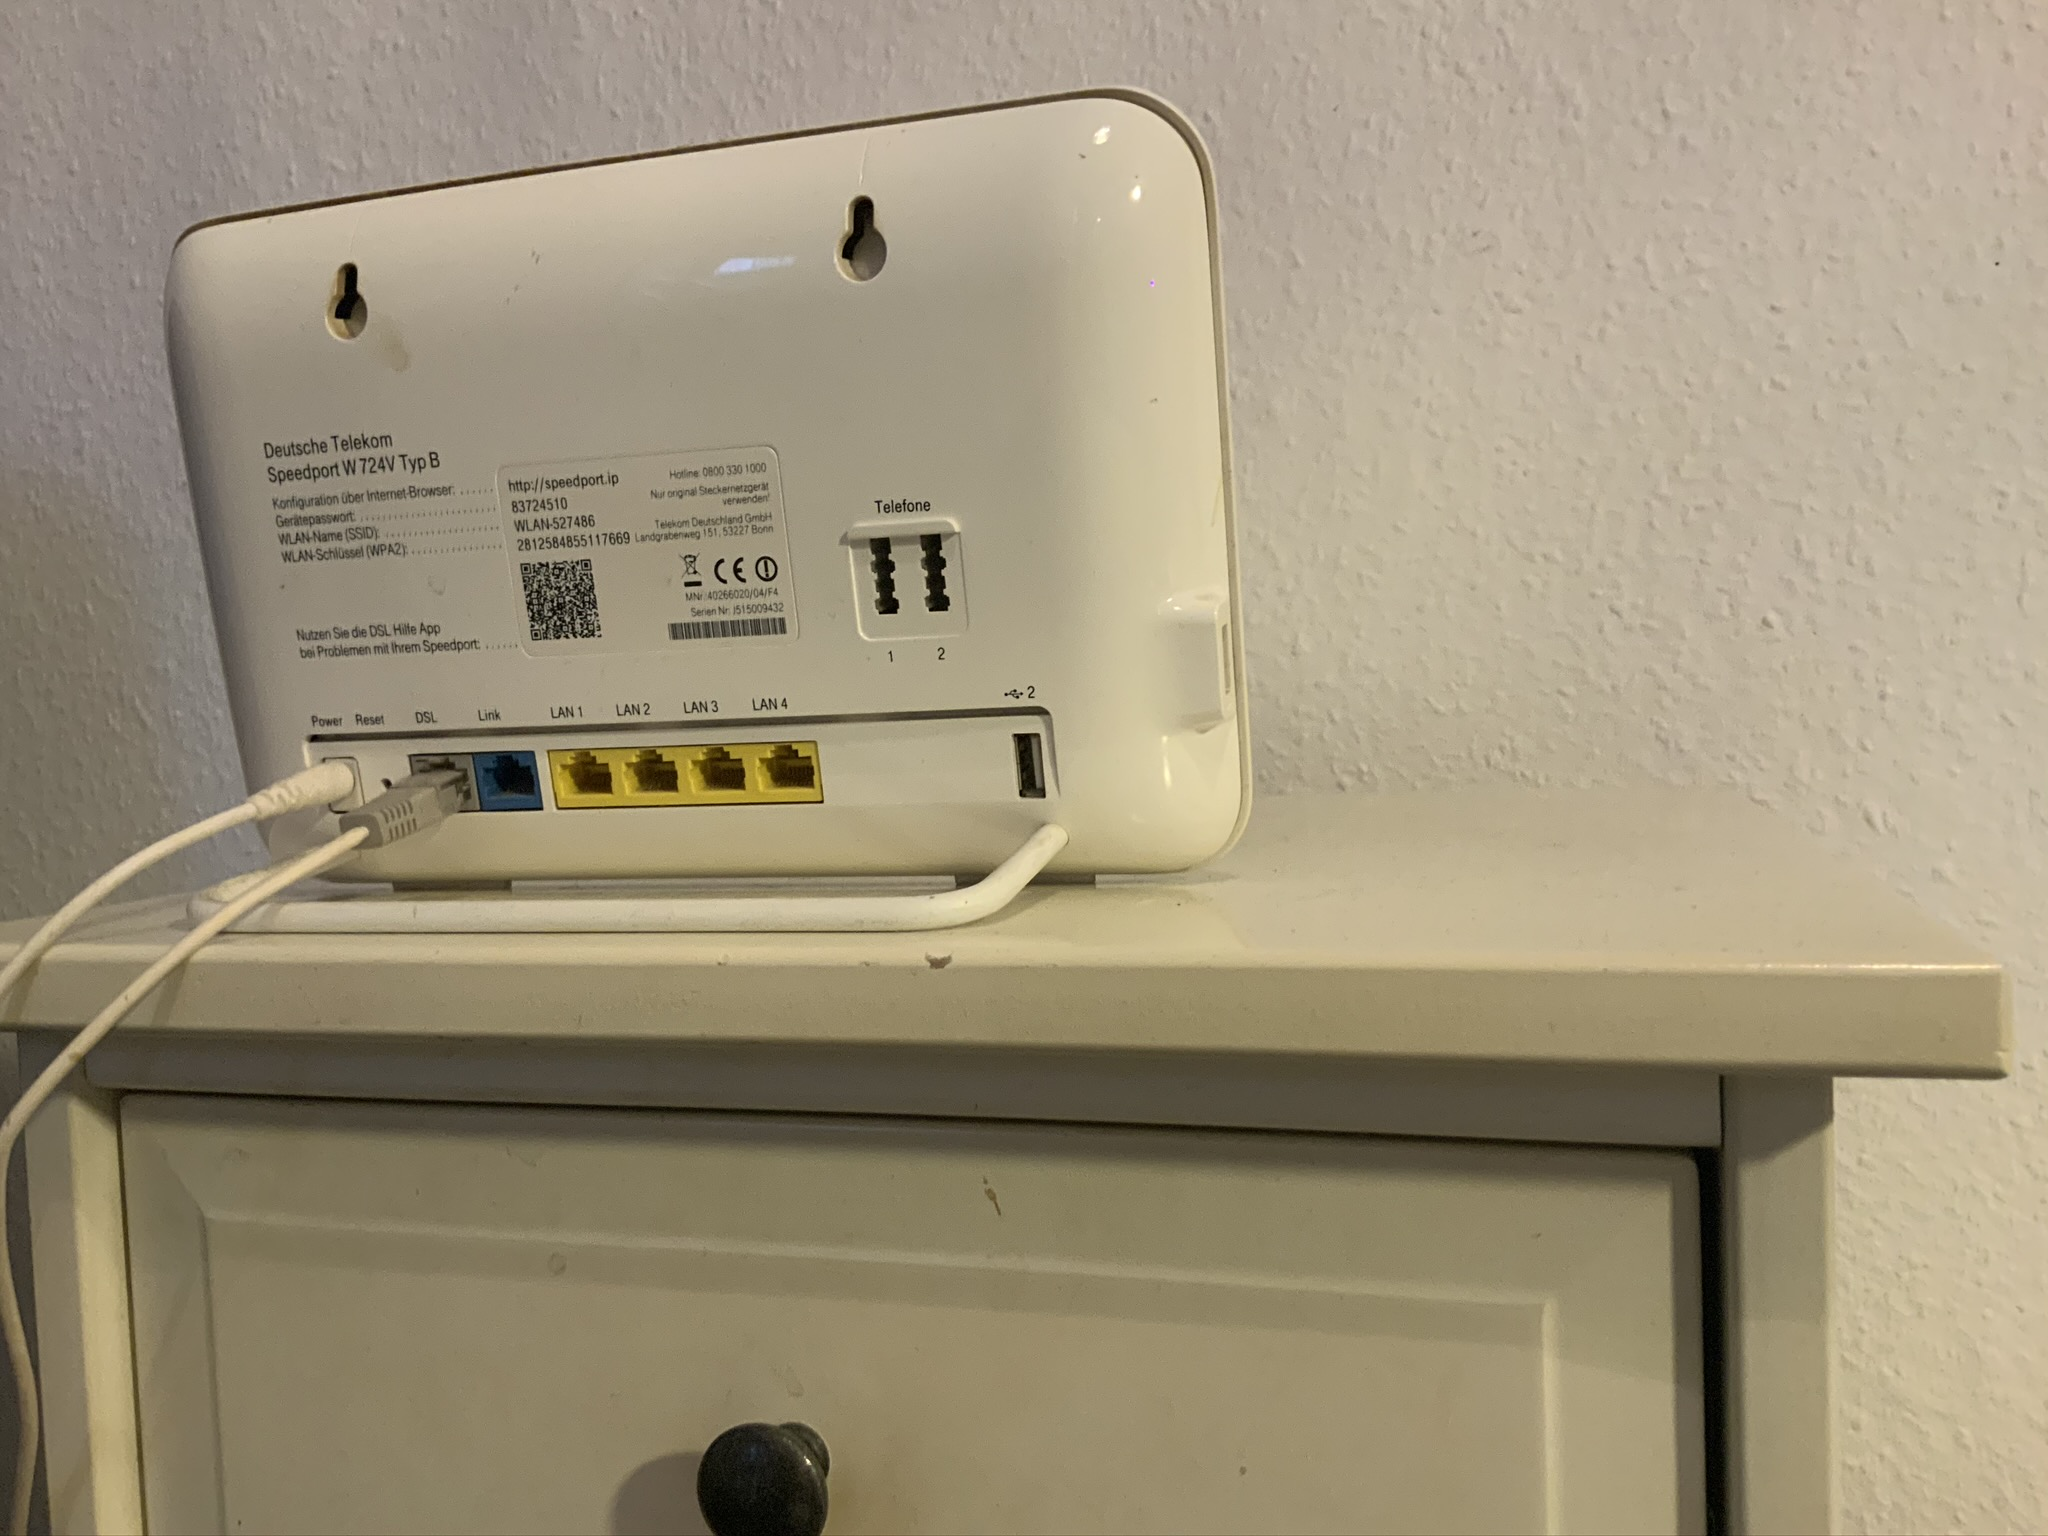router: (161, 74, 1272, 886)
